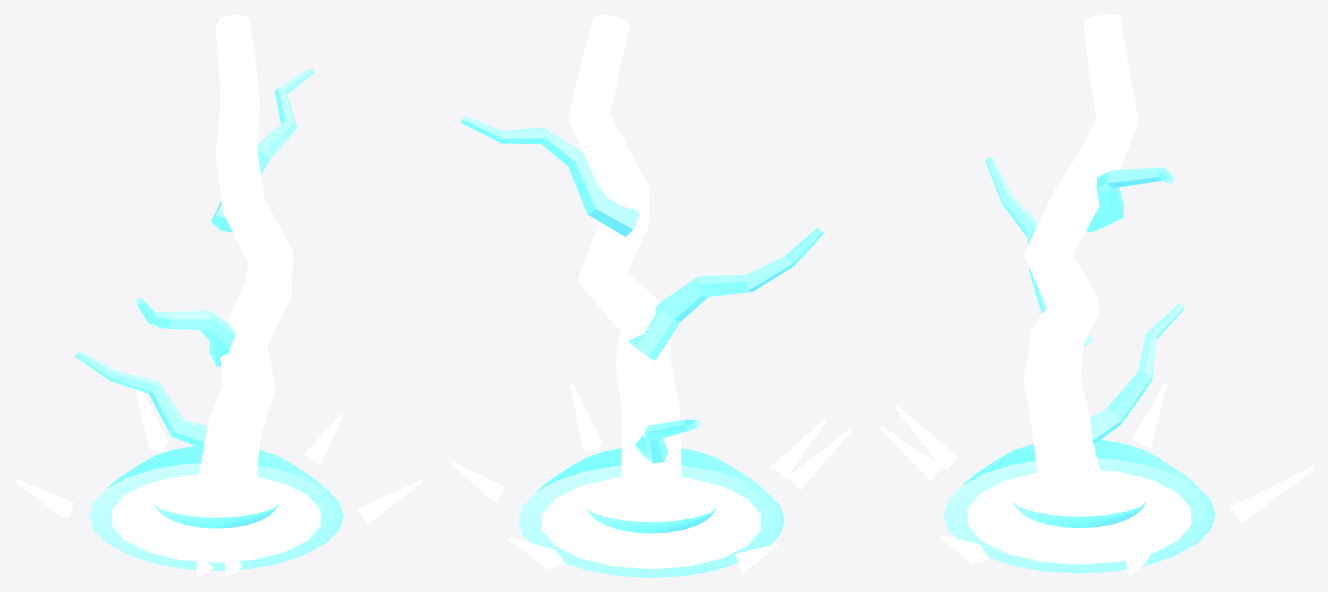
Rendered from fx_lightning.glb.
The picture shows the model from 3 angles, left to right: view 1: azimuth 30°, elevation 25°; view 2: azimuth 150°, elevation 25°; view 3: azimuth 270°, elevation 25°; orthographic projection. The views are drawn at different scales.
Visible parts, largest first — view 1: lightning-strike; view 2: lightning-strike; view 3: lightning-strike.
Part boxes in pixels (left/top/right/bottom): lightning-strike: left=14, top=14, right=422, bottom=577; lightning-strike: left=451, top=14, right=851, bottom=577; lightning-strike: left=880, top=14, right=1313, bottom=577.
Bounding box in the file's own units: 0.6976 × 1.01 × 0.7645.
